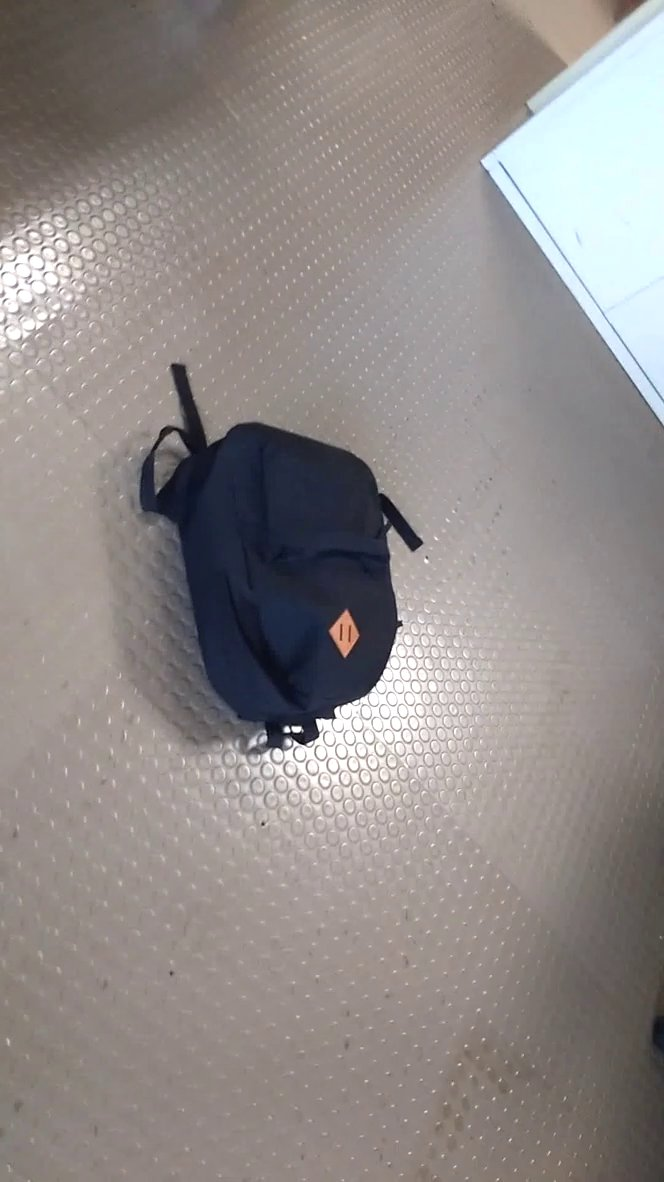bag: (136, 350, 445, 759)
